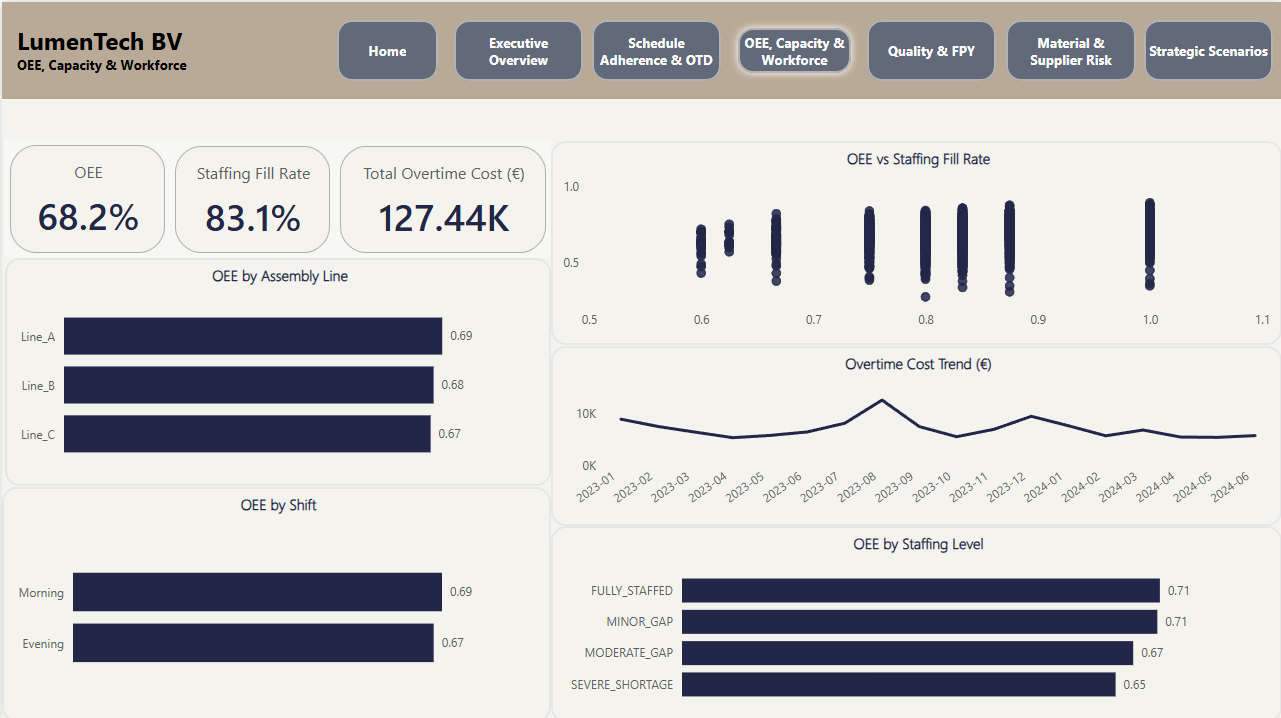

Layout of this report page (visuals, bound fields, positions):
{"tool":"powerbi","page":{"name":"OEE, Capacity & Workforce","canvas":[1280,720],"ordinal":3},"visuals":[{"type":"shape","box":[0,0,1280,97],"z":0},{"type":"cardVisual","fields":{"Data":["Avg(mart_oee_workforce.oee)"]},"box":[2.8,138.4,165.1,117.6],"z":1000},{"type":"cardVisual","fields":{"Data":["Avg(mart_oee_workforce.staffing_fill_rate)"]},"box":[167.5,138.8,165,117.5],"z":2000},{"type":"cardVisual","fields":{"Data":["Sum(mart_oee_workforce.overtime_cost_eur)"]},"box":[332.5,138.8,216.2,117.5],"z":3000},{"type":"barChart","title":"OEE by Assembly Line","fields":{"Category":["mart_oee_workforce.line_name"],"Y":["Avg(mart_oee_workforce.oee)"]},"box":[2.6,255.5,546.1,228.3],"z":4000},{"type":"clusteredBarChart","title":"OEE by Shift","fields":{"Category":["mart_oee_workforce.shift_name"],"Y":["Avg(mart_oee_workforce.oee)"]},"box":[0,485,548.8,235],"z":5000},{"type":"scatterChart","title":"OEE vs Staffing Fill Rate","fields":{"X":["Avg(mart_oee_workforce.staffing_fill_rate)"],"Y":["Avg(mart_oee_workforce.oee)"],"Category":["mart_oee_workforce.prod_log_id"]},"box":[548.6,138.7,731.4,204.6],"z":6000},{"type":"lineChart","title":"Overtime Cost Trend (€)","fields":{"Category":["mart_oee_workforce.year_month"],"Y":["Sum(mart_oee_workforce.overtime_cost_eur)"]},"box":[548.8,343.8,731.2,180],"z":7000},{"type":"clusteredBarChart","title":"OEE by Staffing Level","fields":{"Category":["mart_oee_workforce.staffing_bucket"],"Y":["Avg(mart_oee_workforce.oee)"]},"box":[548.8,523.8,731.2,196.2],"z":8000},{"type":"actionButton","title":"Home","box":[335.4,18.4,100.1,60.6],"z":9000},{"type":"actionButton","title":"Home","box":[452.2,18.4,129.1,60.6],"z":10000},{"type":"actionButton","title":"Home","box":[590,18.4,129.1,60.6],"z":11000},{"type":"actionButton","title":"Home","box":[727.9,18.4,129.1,60.6],"z":12000},{"type":"actionButton","title":"Home","box":[864.9,18.4,129.1,60.6],"z":13000},{"type":"actionButton","title":"Home","box":[1004.5,18.4,129.1,60.6],"z":14000},{"type":"actionButton","title":"Home","box":[1142.3,18.4,129.1,60.6],"z":15000},{"type":"textbox","box":[71,17,218,63],"z":16000},{"type":"image","box":[0,9,71,79],"z":16001}]}

Visuals, with their boxes in screenshot pixels (x1, y1, x2, y2), scaled from the page's 1280x720 canvas onto the 1281x718 screenshot:
shape: bbox(0, 0, 1280, 97)
cardVisual - Avg(mart_oee_workforce.oee): bbox(3, 138, 168, 255)
cardVisual - Avg(mart_oee_workforce.staffing_fill_rate): bbox(168, 138, 333, 256)
cardVisual - Sum(mart_oee_workforce.overtime_cost_eur): bbox(333, 138, 549, 256)
"OEE by Assembly Line" barChart: bbox(3, 255, 549, 482)
"OEE by Shift" clusteredBarChart: bbox(0, 484, 549, 717)
"OEE vs Staffing Fill Rate" scatterChart: bbox(549, 138, 1280, 342)
"Overtime Cost Trend (€)" lineChart: bbox(549, 343, 1280, 522)
"OEE by Staffing Level" clusteredBarChart: bbox(549, 522, 1280, 717)
"Home" actionButton: bbox(336, 18, 436, 79)
"Home" actionButton: bbox(453, 18, 582, 79)
"Home" actionButton: bbox(590, 18, 720, 79)
"Home" actionButton: bbox(728, 18, 858, 79)
"Home" actionButton: bbox(866, 18, 995, 79)
"Home" actionButton: bbox(1005, 18, 1134, 79)
"Home" actionButton: bbox(1143, 18, 1272, 79)
textbox: bbox(71, 17, 289, 80)
image: bbox(0, 9, 71, 88)
